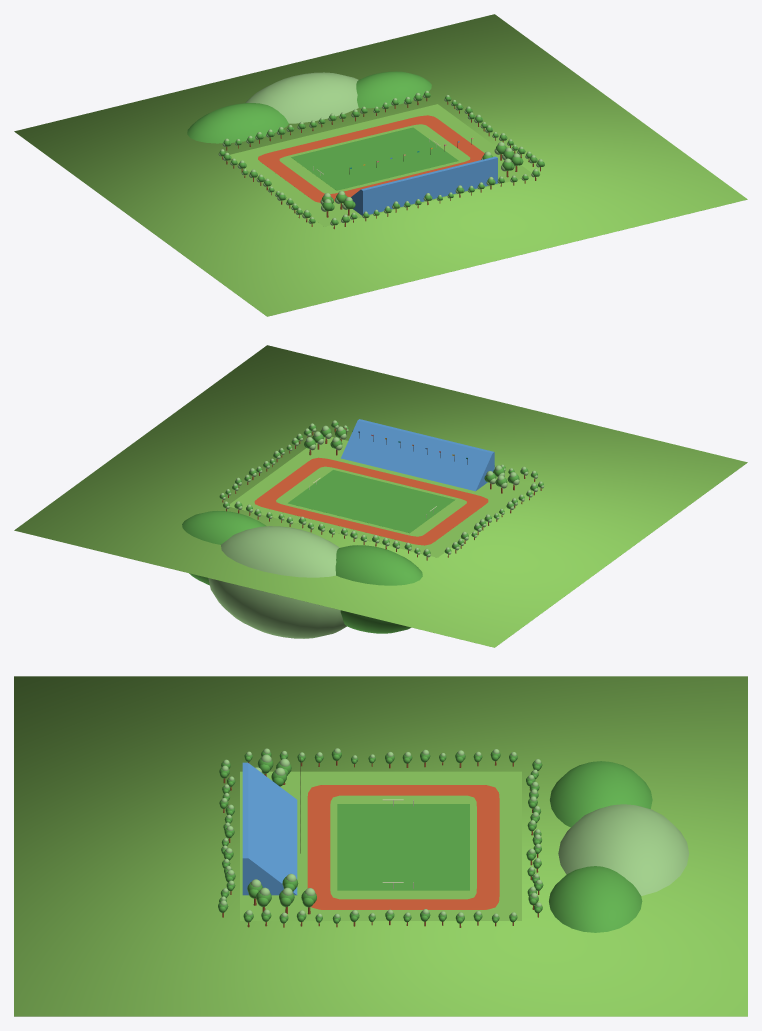
Rendered from sports_centre.glb.
The picture shows the model from 3 angles, top to bottom: view 1: azimuth 30°, elevation 25°; view 2: azimuth 150°, elevation 25°; view 3: azimuth 270°, elevation 25°; orthographic projection. The views are drawn at different scales.
Parts seen in each view (by area): view 1: Grass.006, Grass-col.001, Soccer Field-col.001, Hill1, Stands-col.001, Run Track-col.001, Hill0, Hill2; view 2: Grass.006, Hill1, Grass-col.001, Stands-col.001, Soccer Field-col.001, Run Track-col.001, Hill0, Hill2; view 3: Grass.006, Grass-col.001, Soccer Field-col.001, Run Track-col.001, Hill1, Stands-col.001, Hill2, Hill0.
Boxes of the visible parts, left/top/right/bottom form: Grass.006: left=14, top=14, right=747, bottom=316; Grass-col.001: left=230, top=104, right=531, bottom=226; Soccer Field-col.001: left=291, top=127, right=458, bottom=190; Hill1: left=245, top=72, right=358, bottom=123; Stands-col.001: left=351, top=156, right=497, bottom=215; Run Track-col.001: left=258, top=115, right=484, bottom=202; Hill0: left=187, top=103, right=288, bottom=143; Hill2: left=356, top=71, right=431, bottom=108; Grass.006: left=14, top=345, right=747, bottom=647; Hill1: left=208, top=526, right=346, bottom=638; Grass-col.001: left=229, top=437, right=530, bottom=557; Stands-col.001: left=341, top=419, right=494, bottom=491; Soccer Field-col.001: left=288, top=470, right=455, bottom=533; Run Track-col.001: left=254, top=457, right=488, bottom=545; Hill0: left=335, top=545, right=422, bottom=633; Hill2: left=182, top=511, right=266, bottom=585; Grass.006: left=14, top=676, right=747, bottom=1016; Grass-col.001: left=240, top=771, right=521, bottom=920; Soccer Field-col.001: left=337, top=804, right=469, bottom=890; Run Track-col.001: left=307, top=785, right=499, bottom=909; Hill1: left=558, top=804, right=689, bottom=895; Stands-col.001: left=242, top=762, right=297, bottom=895; Hill2: left=549, top=866, right=642, bottom=932; Hill0: left=550, top=761, right=652, bottom=827.
Bounding box in the file's own units: 285 × 61.9 × 260.
